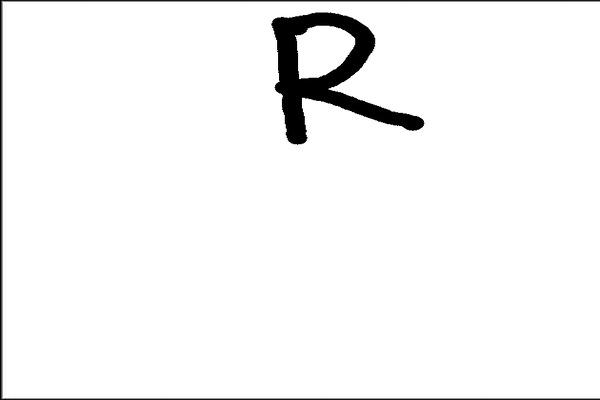R: (259, 9, 433, 150)
